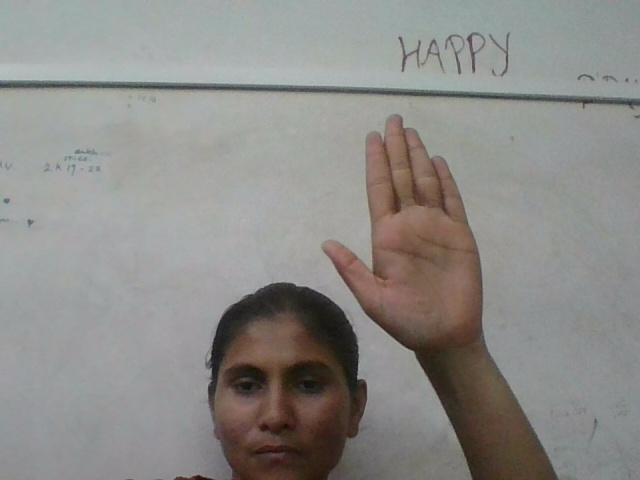Hello: (323, 115, 502, 344)
